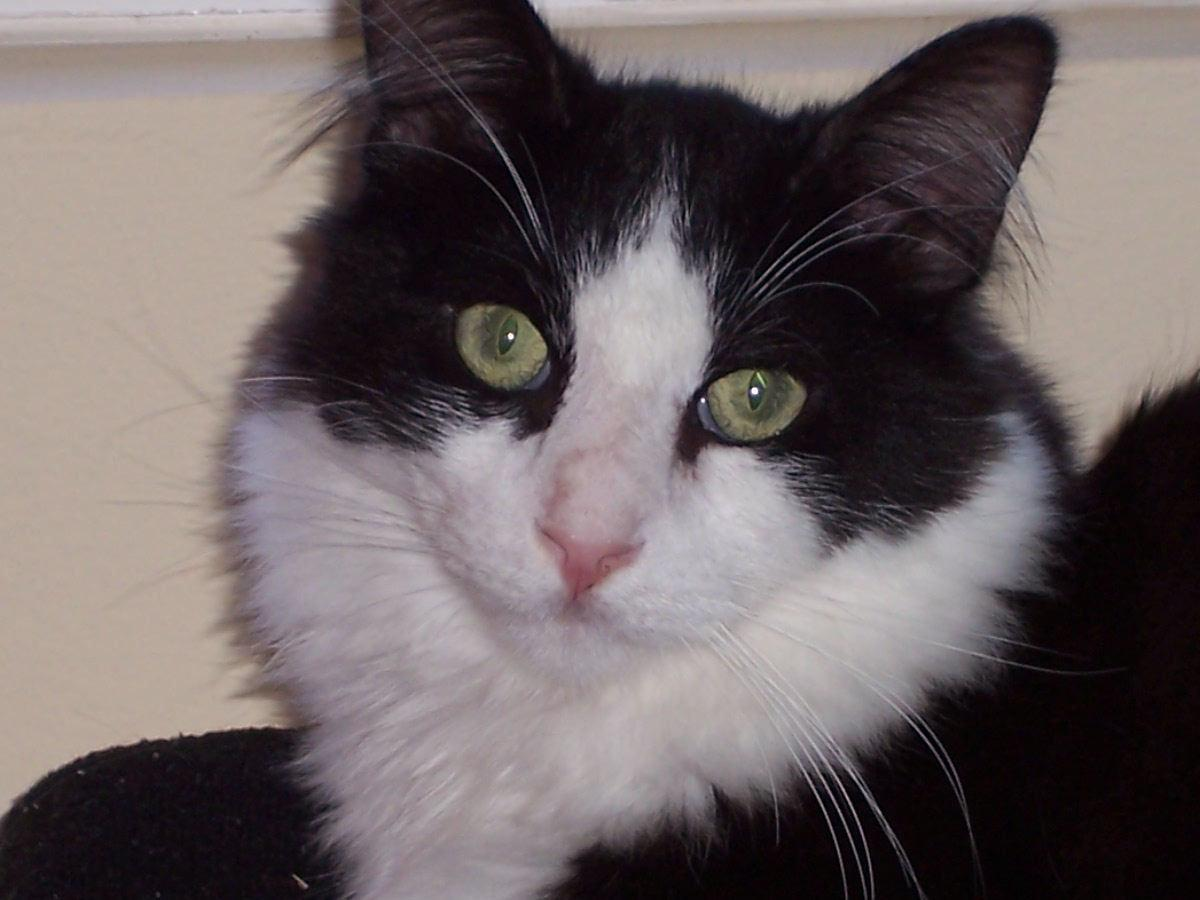ragdoll: (295, 1, 1054, 708)
